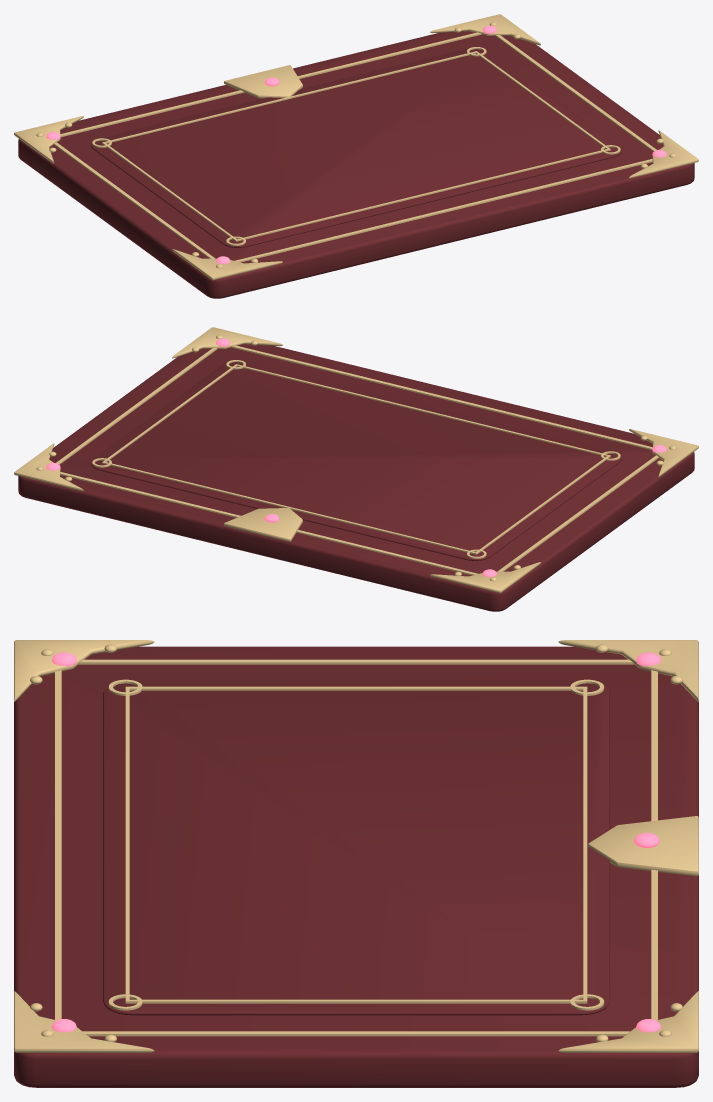
The model's file is SM_Grimoire_FrontCover.fbx.
3 views of the same model, one above another, from view 1: azimuth 30°, elevation 25°; view 2: azimuth 150°, elevation 25°; view 3: azimuth 270°, elevation 25° (orthographic). The views are drawn at different scales.
Parts seen in each view (by area): view 1: SM_Grimoire_FrontCover; view 2: SM_Grimoire_FrontCover; view 3: SM_Grimoire_FrontCover.
Part boxes in pixels (x1,y1,x2,y2): SM_Grimoire_FrontCover: (14,14,698,298); SM_Grimoire_FrontCover: (14,327,698,611); SM_Grimoire_FrontCover: (14,640,698,1087).
Size of the model in its own units: 26 by 1.49 by 18.4.
